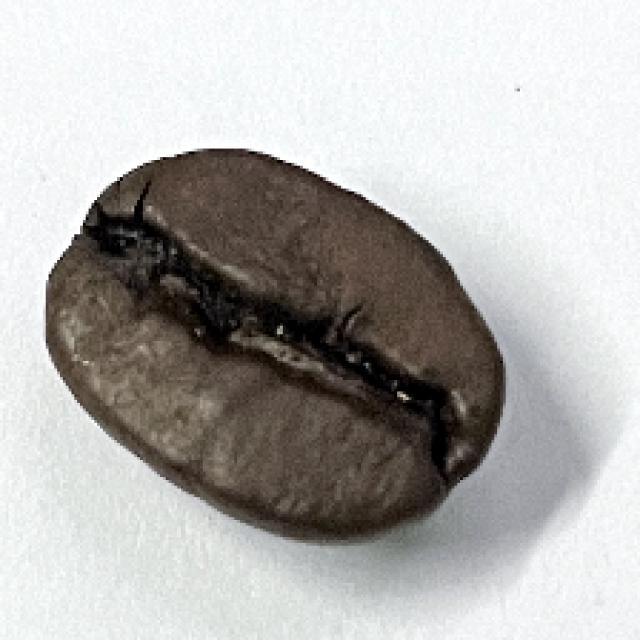bean: (41, 144, 510, 543)
